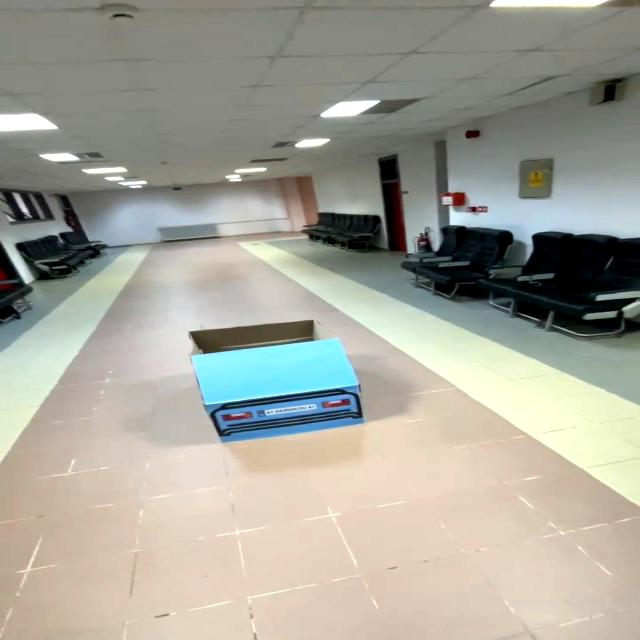blue_car: (176, 313, 385, 451)
